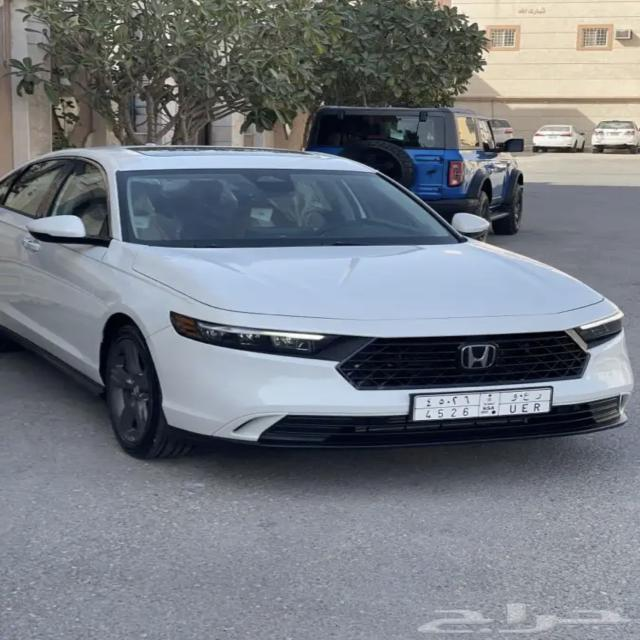license_plate: (412, 387, 555, 426)
